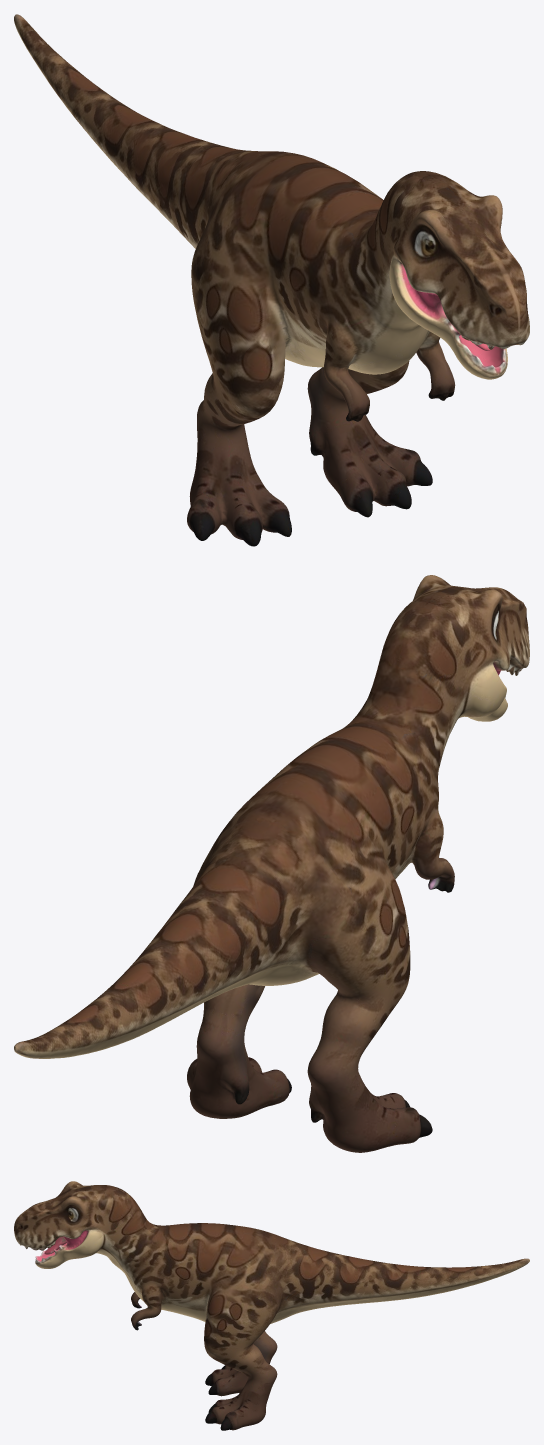
File: T-tirannosauro.glb
The picture shows the model from 3 angles, top to bottom: view 1: azimuth 30°, elevation 25°; view 2: azimuth 150°, elevation 25°; view 3: azimuth 270°, elevation 25°; orthographic projection. The views are drawn at different scales.
Size of the model in its own units: 0.5113 by 0.89 by 1.9.
Materials: 1 (1 with a texture image).
